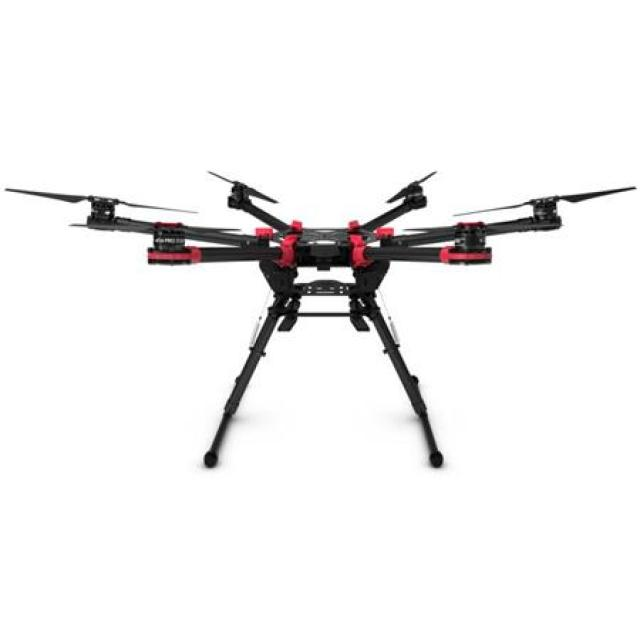drone: (18, 168, 640, 495)
